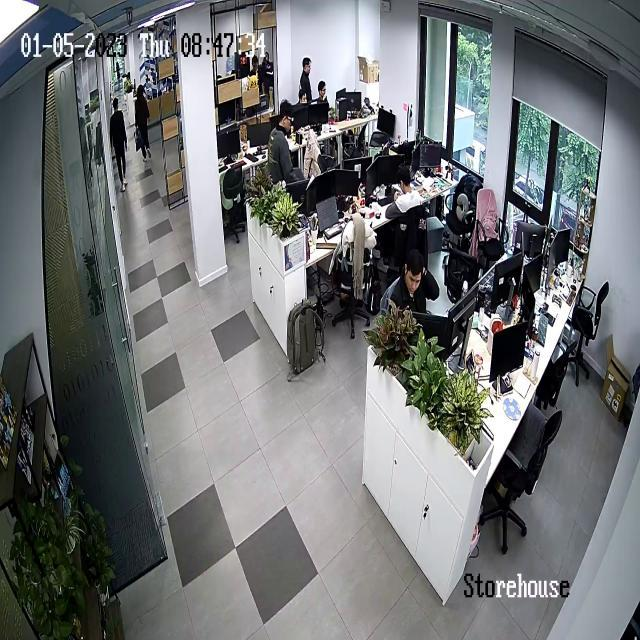person: (388, 248, 440, 310), (271, 100, 301, 183), (391, 162, 425, 222), (110, 97, 129, 191), (136, 80, 151, 160), (298, 56, 314, 104), (316, 80, 329, 106)
